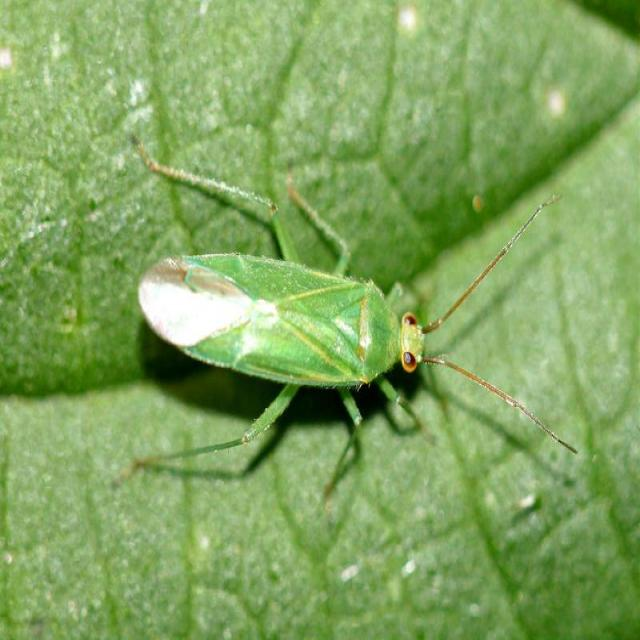Miridae-Adult-: (99, 136, 587, 501)
